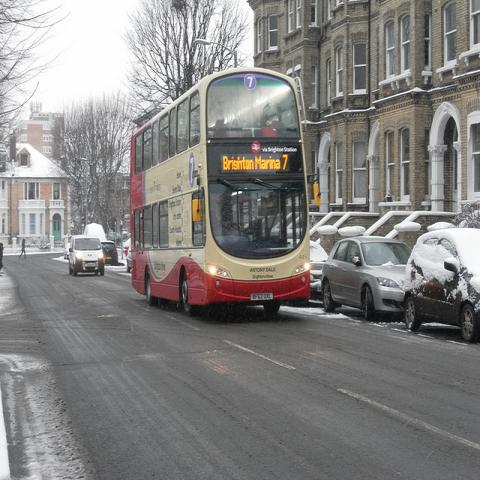bus: (127, 64, 312, 313)
car: (402, 226, 480, 342), (321, 236, 412, 320), (69, 234, 105, 276), (310, 239, 330, 292), (100, 241, 118, 266), (126, 242, 131, 274), (123, 240, 130, 257), (125, 214, 131, 222)
